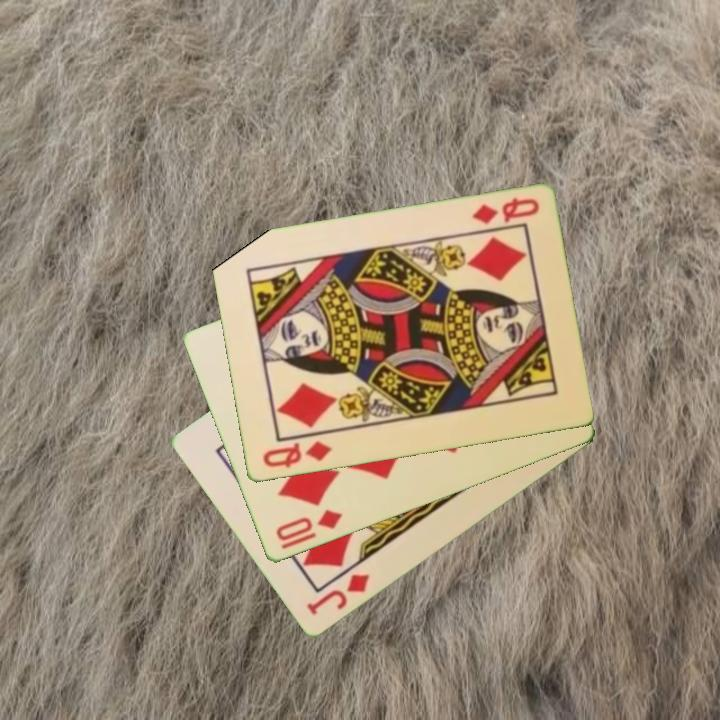10d: (272, 506, 346, 545)
Jd: (303, 570, 372, 619)
Qd: (259, 437, 335, 471), (468, 194, 542, 228)
